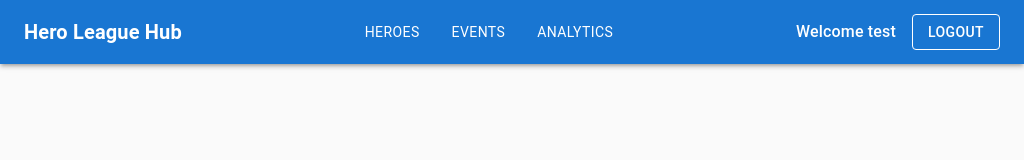
Test: Navbar › logout clears token and resets user
Click the button "Logout".
click(956, 32)  # box left=912, top=14, right=1000, bottom=50
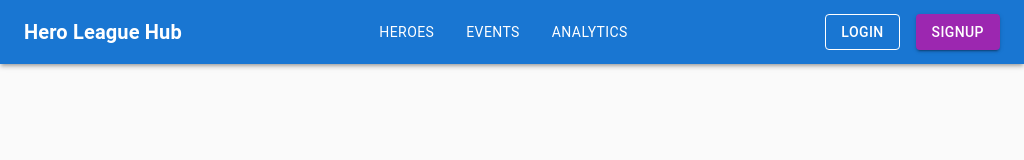
Expected: the text "Welcome" is gone
